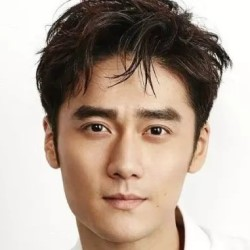unmask: (51, 84, 199, 244)
